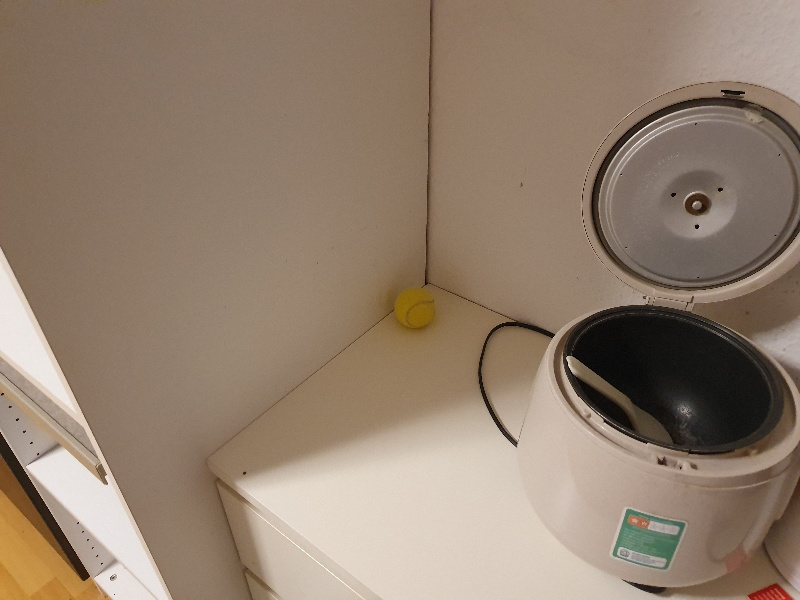Tennisball: (388, 281, 443, 332)
